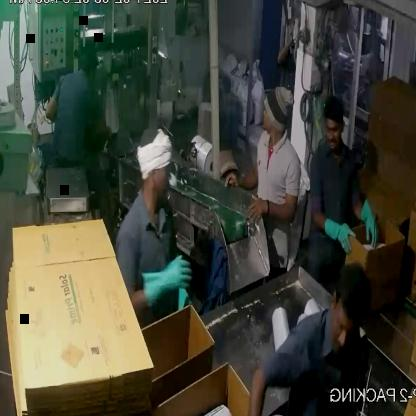glove: (142, 242, 199, 315), (358, 188, 390, 252), (314, 214, 356, 254)
no_glove: (244, 176, 311, 236), (221, 156, 268, 196)
